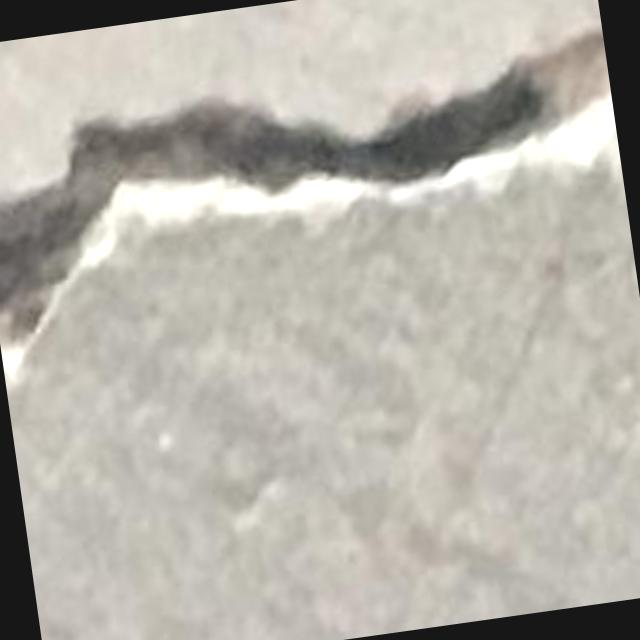crack: (0, 29, 611, 349)
